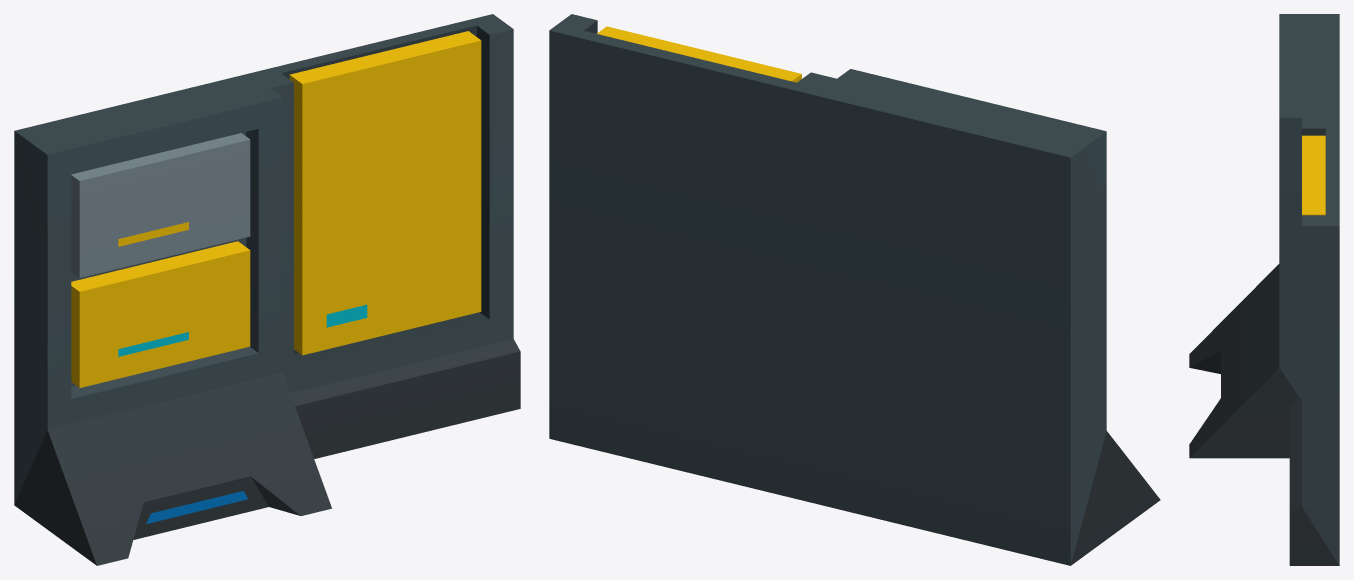
Rendered from Wall_type_C_035.fbx.
3 renders of one model, left to right at view 1: azimuth 30°, elevation 25°; view 2: azimuth 150°, elevation 25°; view 3: azimuth 270°, elevation 25°, orthographic. The views are drawn at different scales.
Parts seen in each view (by area): view 1: Wall_type_C_035; view 2: Wall_type_C_035; view 3: Wall_type_C_035.
Boxes of the visible parts, <box> form: Wall_type_C_035: <box>14,14,520,565</box>; Wall_type_C_035: <box>549,14,1160,565</box>; Wall_type_C_035: <box>1189,14,1339,565</box>.
Size of the model in its own units: 200 by 60 by 150.
